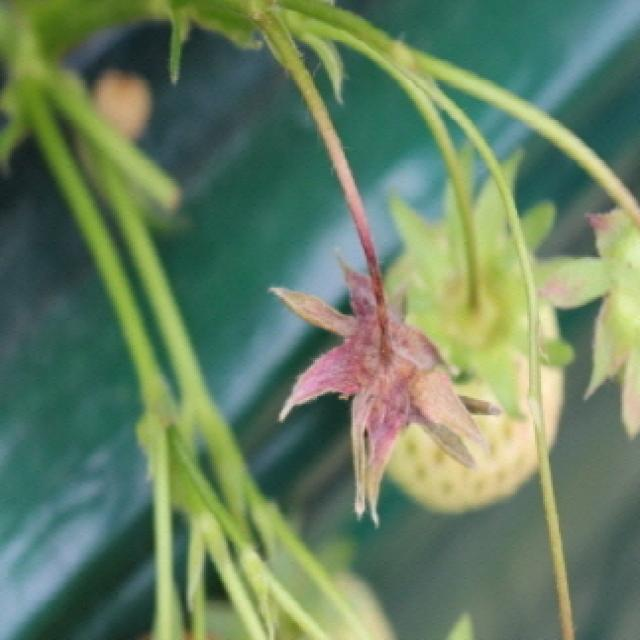Gray Mold: (273, 254, 503, 523)
